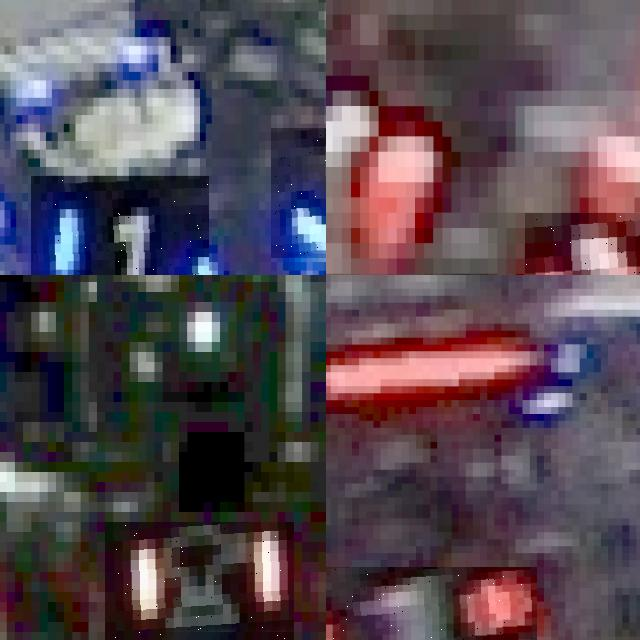B1: (31, 175, 209, 275), (271, 128, 326, 257)
R1: (326, 567, 536, 640)
R3: (524, 212, 640, 275)
Rs: (105, 522, 293, 640)
